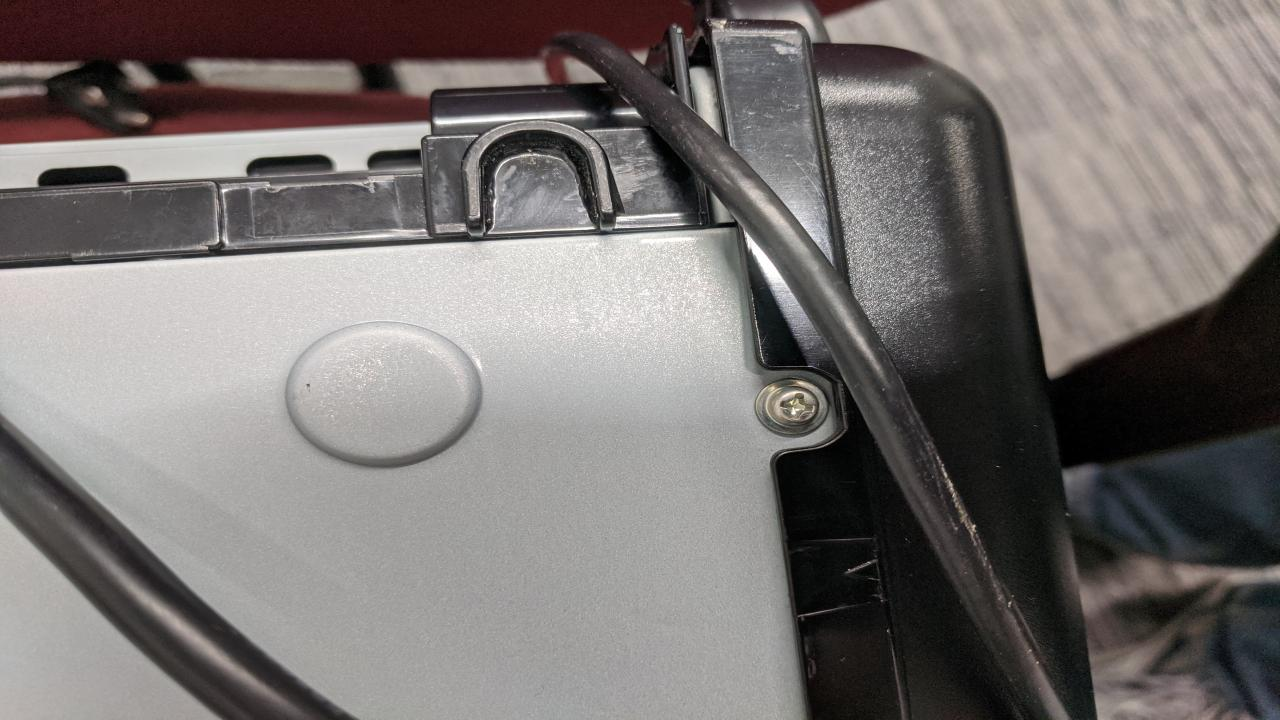CRS: (764, 386, 822, 430)
